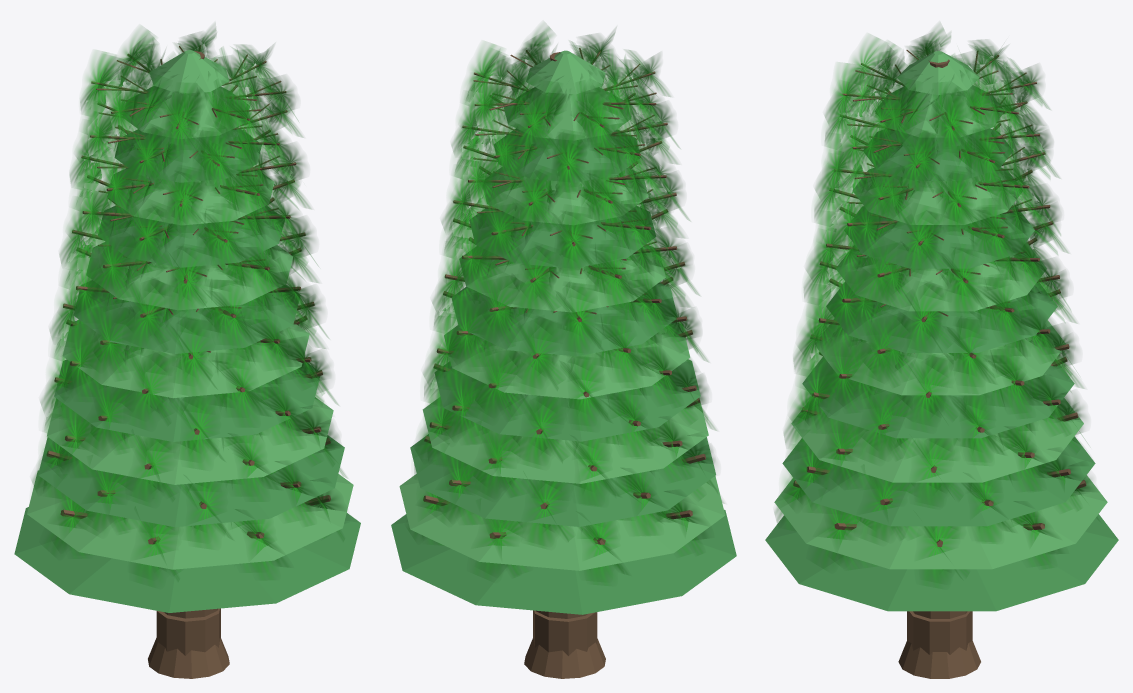
The model's file is pine.glb.
3 views of the same model, side by side, from view 1: azimuth 30°, elevation 25°; view 2: azimuth 150°, elevation 25°; view 3: azimuth 270°, elevation 25° (orthographic).
Visible parts, largest first — view 1: Plane.1179; view 2: Plane.1179; view 3: Plane.1179.
Boxes of the visible parts, bbox=[...] form: Plane.1179: bbox=[14, 25, 360, 678]; Plane.1179: bbox=[391, 25, 736, 678]; Plane.1179: bbox=[765, 25, 1118, 678].
Bounding box in the file's own units: 4.71 × 9.4 × 4.95.
4 materials, 1 textured.
